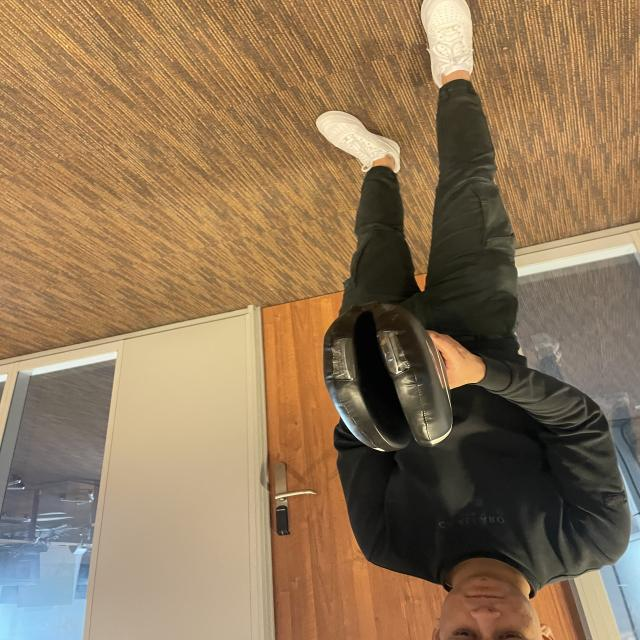paddle: (324, 308, 450, 451)
